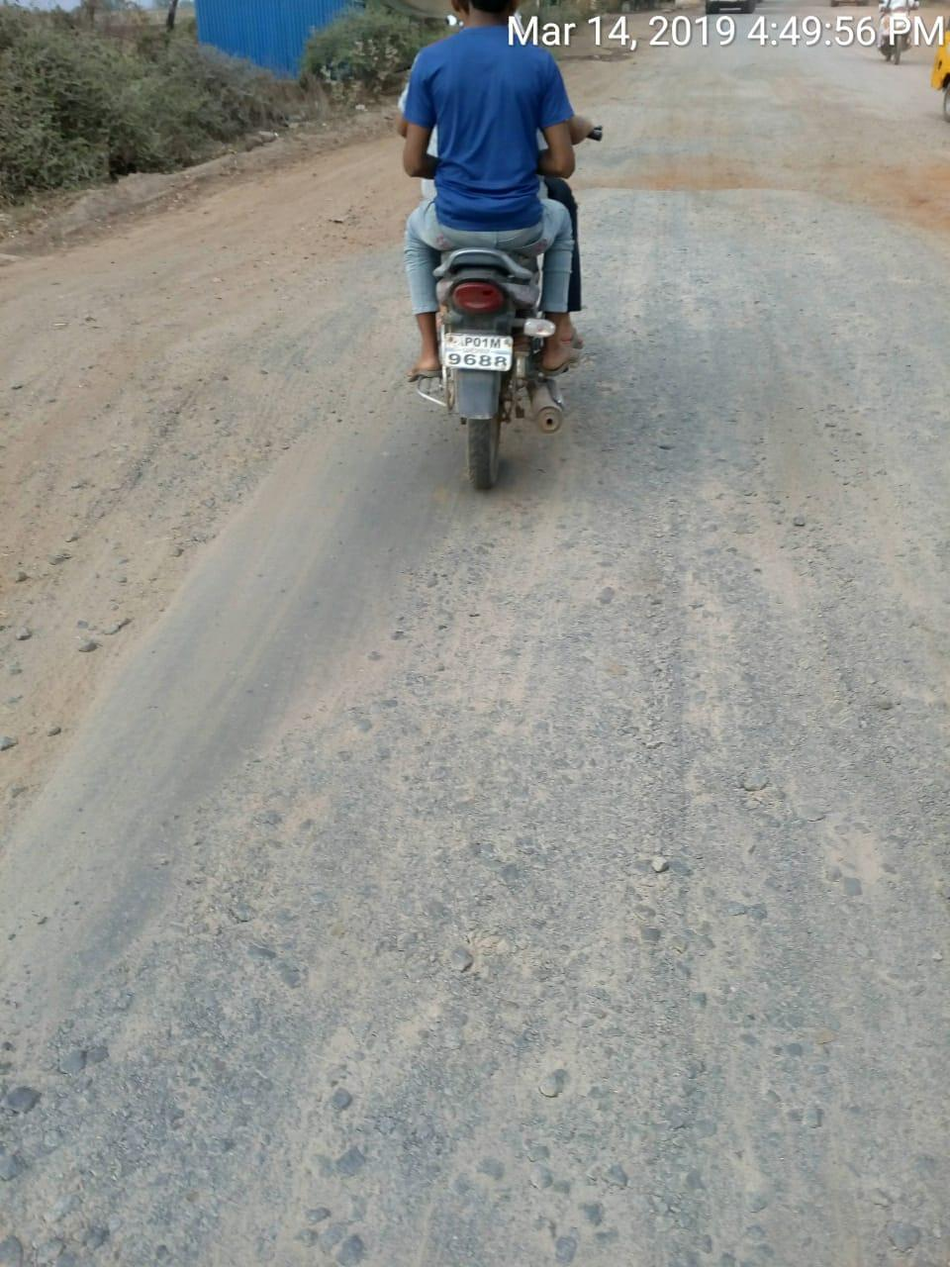plate: (444, 329, 520, 374)
